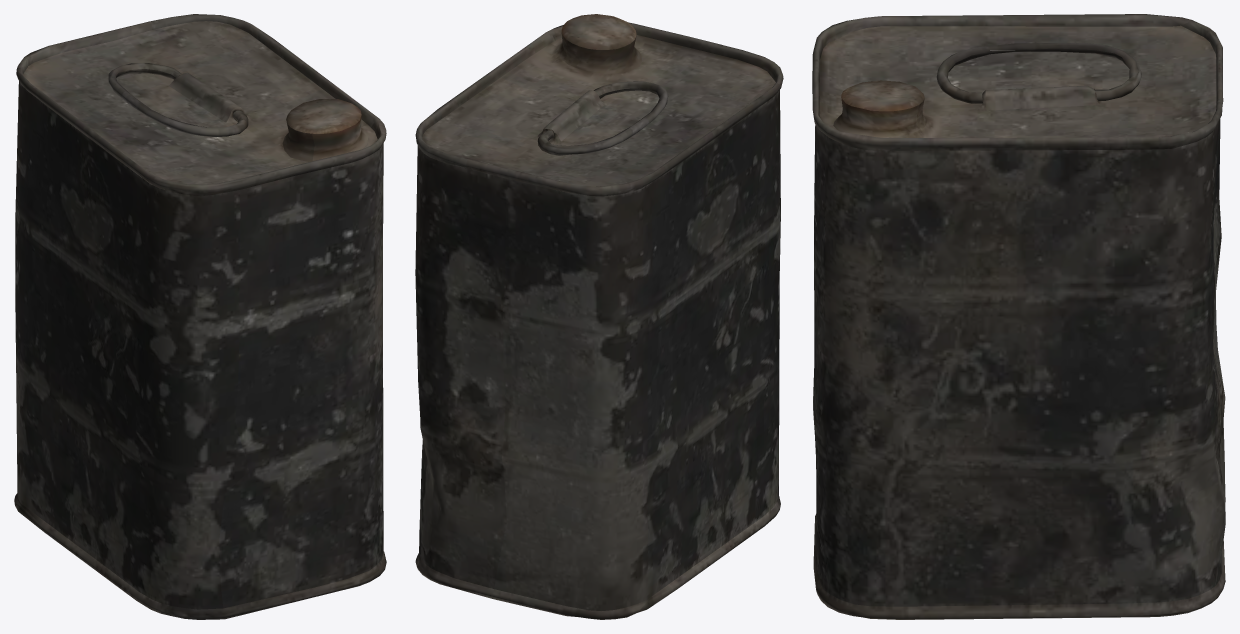
File: oil_tin.glb
3 views of the same model, side by side, from view 1: azimuth 30°, elevation 25°; view 2: azimuth 150°, elevation 25°; view 3: azimuth 270°, elevation 25° (orthographic). The views are drawn at different scales.
Visible parts, largest first — view 1: oil_tin; view 2: oil_tin; view 3: oil_tin.
Part boxes in pixels (<box>): oil_tin: <box>14,14,386,619</box>; oil_tin: <box>415,14,783,619</box>; oil_tin: <box>812,14,1225,619</box>.
Bounding box in the file's own units: 0.1147 × 0.2052 × 0.1535.
Materials: 1 (1 with a texture image).
